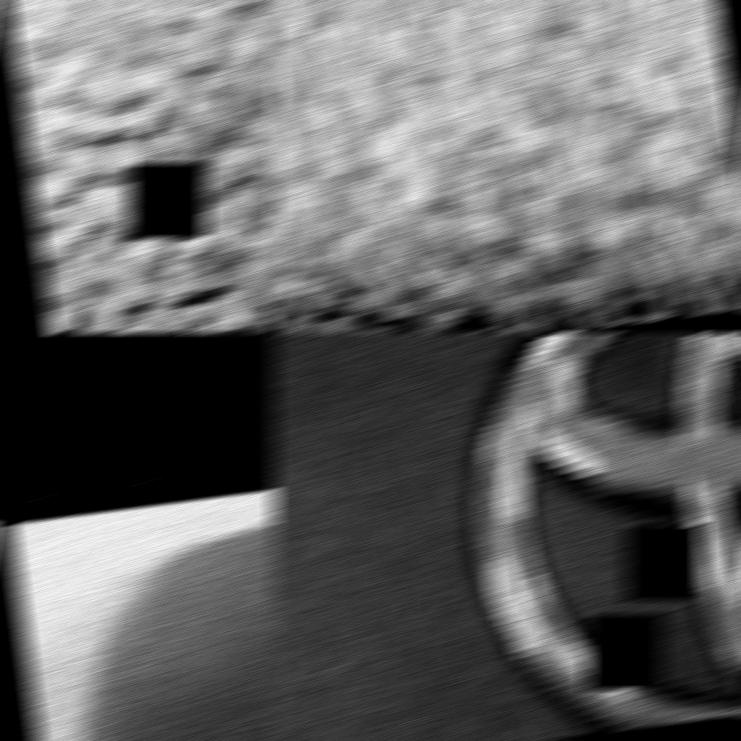AirbagV2: (270, 334, 741, 740), (270, 1, 741, 332), (0, 1, 278, 332), (0, 459, 278, 740)
